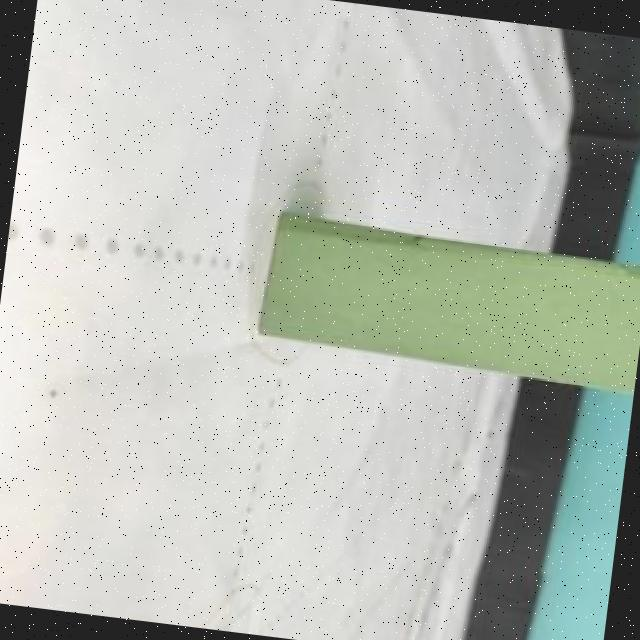greenbox: (250, 210, 640, 392)
